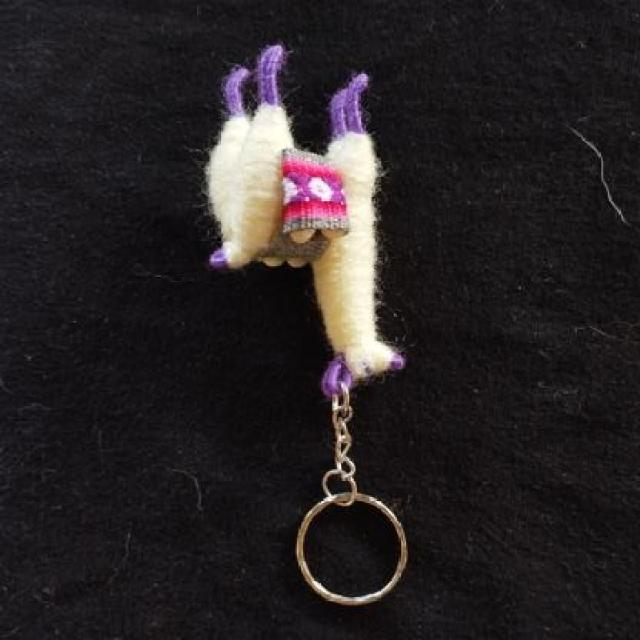Llavero: (203, 41, 408, 397)
